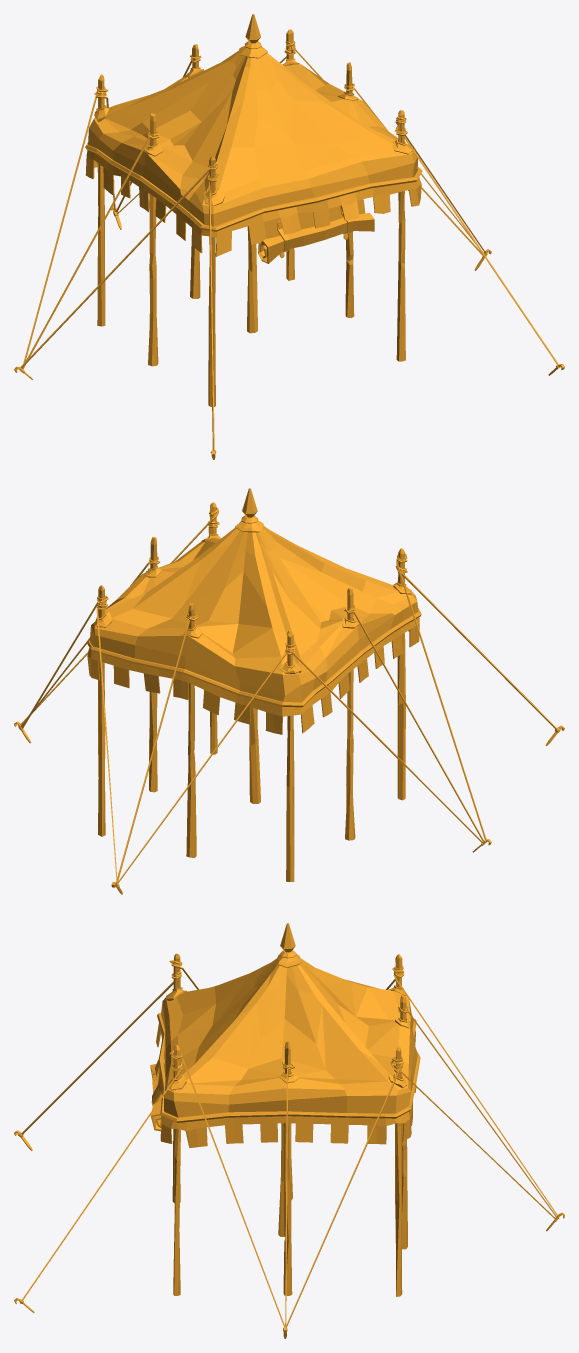
The model's file is SM_Tent_Angular_Plain_Construct_B_Roof_Fantasy.fbx.
The picture shows the model from 3 angles, top to bottom: view 1: azimuth 30°, elevation 25°; view 2: azimuth 150°, elevation 25°; view 3: azimuth 270°, elevation 25°; orthographic projection.
Visible parts, largest first — view 1: tent-angular-plain-construct-b-roof-fantasy; view 2: tent-angular-plain-construct-b-roof-fantasy; view 3: tent-angular-plain-construct-b-roof-fantasy.
Part boxes in pixels (box(x1,y1,x2,y2)): tent-angular-plain-construct-b-roof-fantasy: box(14, 14, 564, 459); tent-angular-plain-construct-b-roof-fantasy: box(14, 488, 564, 894); tent-angular-plain-construct-b-roof-fantasy: box(14, 923, 564, 1338).
Size of the model in its own units: 8.06 by 5.31 by 8.11.
